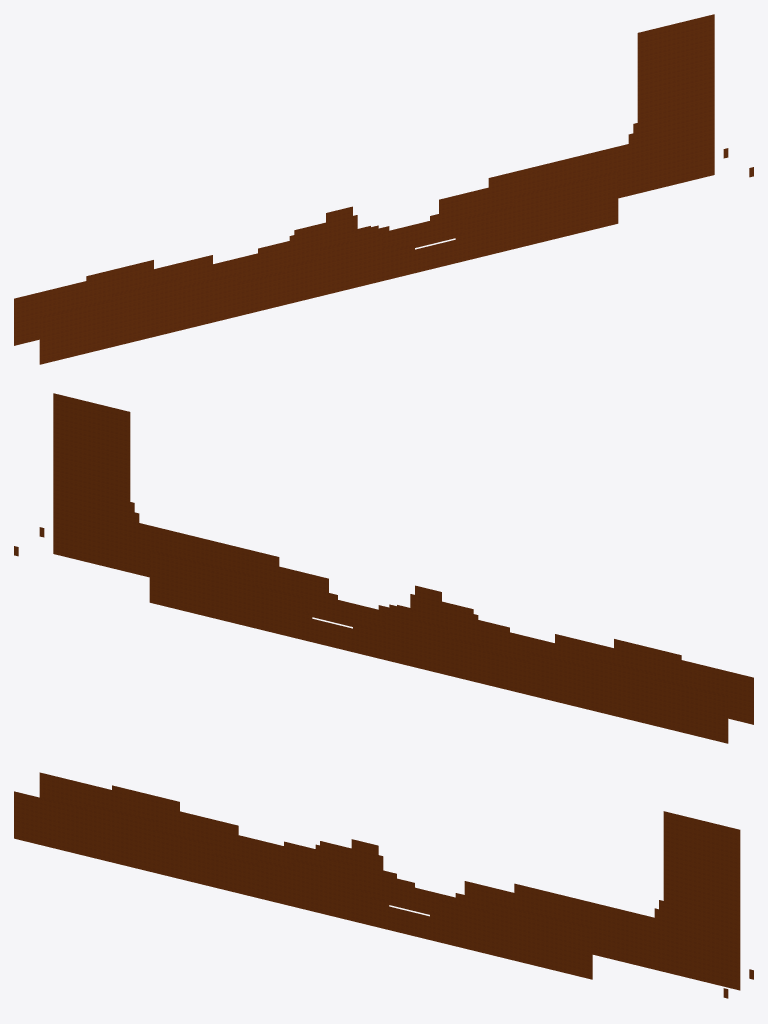
The model's file is Luna0CharsFundoOriginal.glb.
3 views of the same model, one above another, from view 1: azimuth 30°, elevation 25°; view 2: azimuth 150°, elevation 25°; view 3: azimuth 330°, elevation 25° (orthographic).
Parts seen in each view (by area): view 1: Setor_4, Setor_0, Setor_3, Setor_1, Setor_2; view 2: Setor_4, Setor_0, Setor_3, Setor_1, Setor_2; view 3: Setor_4, Setor_3, Setor_0, Setor_2, Setor_1.
Boxes of the visible parts, <box> form: Setor_4: <box>592,14,753,198</box>; Setor_0: <box>14,260,184,364</box>; Setor_3: <box>448,153,618,258</box>; Setor_1: <box>158,228,328,329</box>; Setor_2: <box>303,197,473,293</box>; Setor_4: <box>14,393,175,577</box>; Setor_0: <box>583,639,753,743</box>; Setor_3: <box>149,532,319,637</box>; Setor_1: <box>439,607,609,708</box>; Setor_2: <box>294,576,464,672</box>; Setor_4: <box>618,811,753,998</box>; Setor_3: <box>448,883,618,979</box>; Setor_0: <box>14,772,184,873</box>; Setor_2: <box>303,839,473,944</box>; Setor_1: <box>158,812,328,908</box>.
Bounding box in the file's own units: 164 × 35.36 × 10.28.
1 material, 1 textured.
